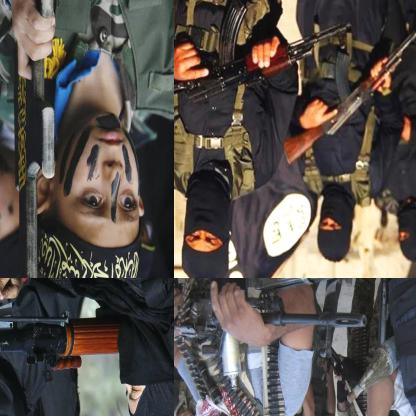rifle: (174, 0, 356, 120), (282, 20, 415, 167), (174, 278, 372, 357), (12, 0, 63, 277), (0, 296, 173, 375), (343, 332, 411, 409)
